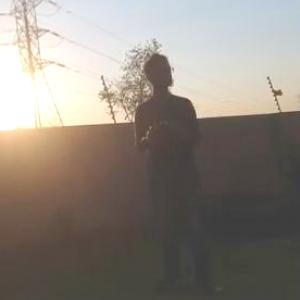follow: (130, 46, 225, 284)
